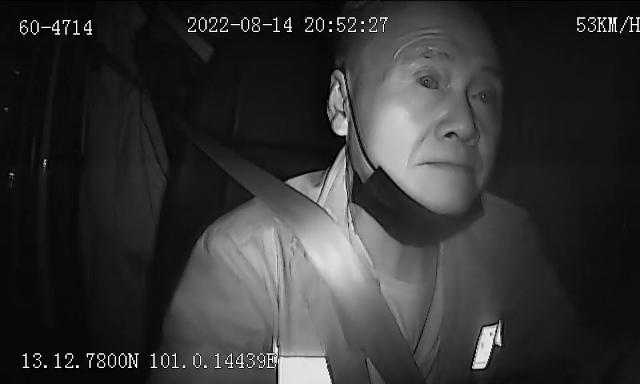SafeDriving: (410, 62, 448, 100), (464, 74, 500, 112)
Seatbelt: (194, 128, 430, 384)
